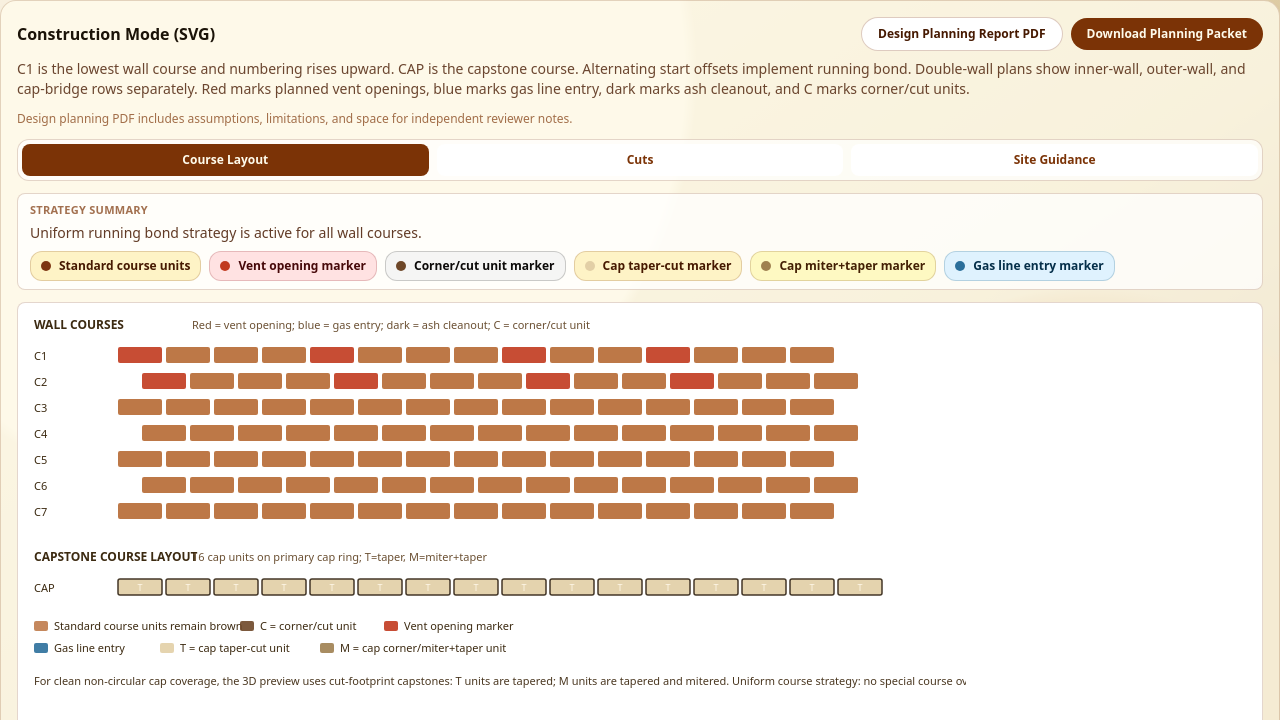
it: ConstructionMode › shows smokeless hole guide in cuts tab when smokeless mode is enabled
Click the tab "Cuts": click(640, 160) [437, 144, 843, 176]
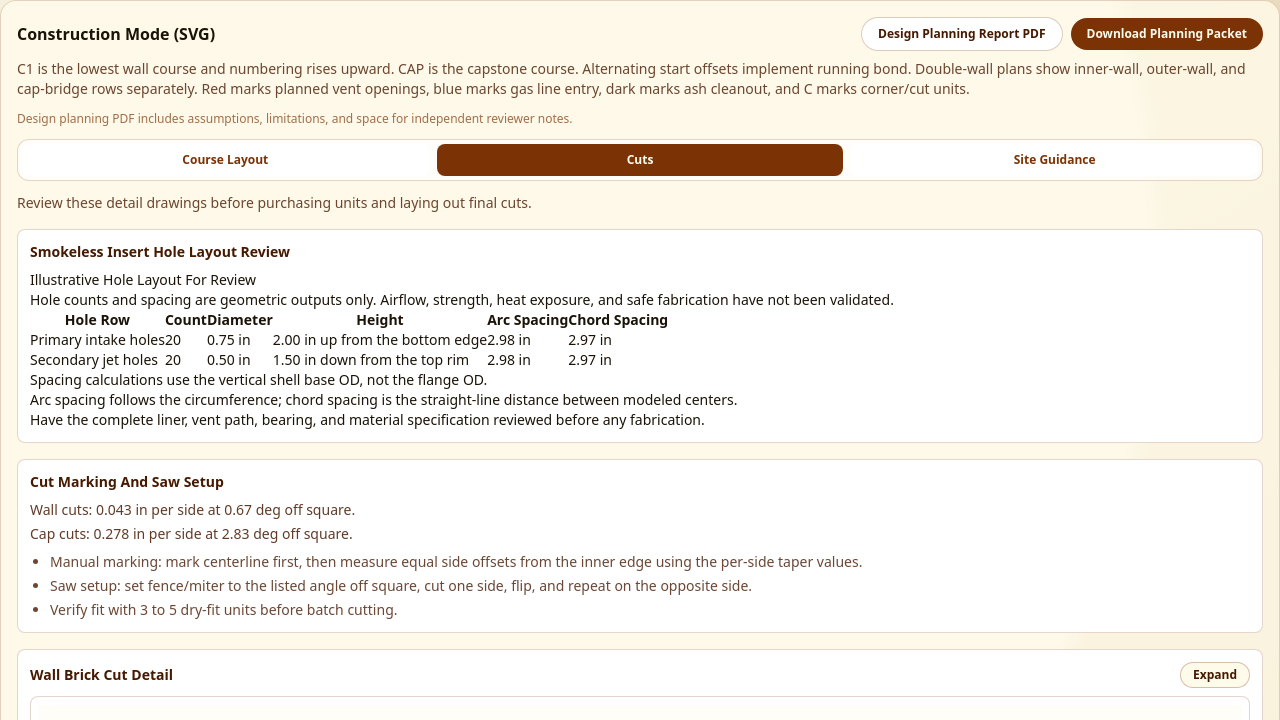
Result: the heading "Smokeless Insert Hole Layout Review" is shown at [30, 242, 290, 261]
Result: the text "Primary intake holes" is shown at [30, 330, 165, 350]
Result: the text "Secondary jet holes" is shown at [30, 350, 165, 370]
